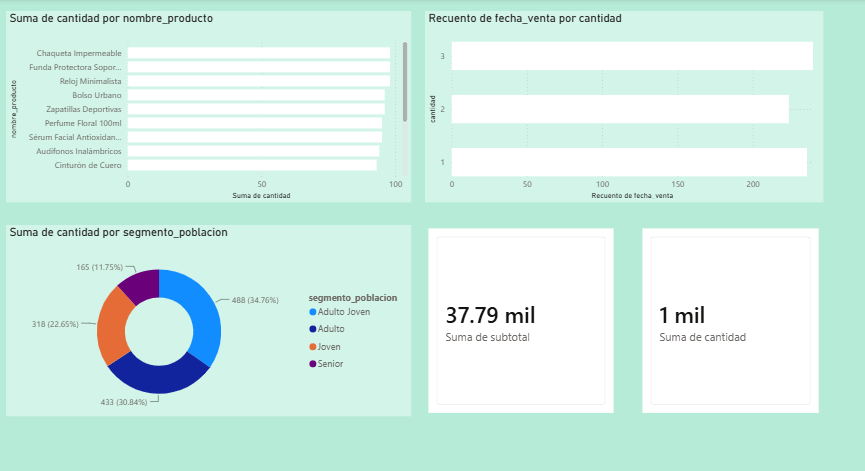

Layout of this report page (visuals, bound fields, positions):
{"tool":"powerbi","page":{"name":"Página 1","canvas":[1280,720],"ordinal":0},"visuals":[{"type":"clusteredBarChart","fields":{"Category":["data_1787153530967.nombre_producto"],"Y":["Sum(data_1787153530967.cantidad)"]},"box":[12.9,17.1,592.9,280],"z":0},{"type":"donutChart","fields":{"Category":["data_1787153530967.segmento_poblacion"],"Y":["Sum(data_1787153530967.cantidad)"]},"box":[12.9,331.4,593,280],"z":1000},{"type":"clusteredBarChart","fields":{"Y":["CountNonNull(data_1787153530967.fecha_venta)"],"Category":["data_1787153530967.cantidad"]},"box":[625.7,17.1,582.9,280],"z":2000},{"type":"cardVisual","fields":{"Data":["Sum(data_1787153530967.subtotal)"]},"box":[625.7,331.4,281.4,280],"z":3000},{"type":"cardVisual","fields":{"Data":["Sum(data_1787153530967.cantidad)"]},"box":[940,331.4,268.6,280],"z":4000}]}

Visuals, with their boxes on the page's 1280x720 design canvas (x1, y1, x2, y2). These are canvas units, not pixel positions in the 865x471 screenshot, which may show the page scaled, cropped or inside an application window:
clusteredBarChart - data_1787153530967.nombre_producto x Sum(data_1787153530967.cantidad): bbox(13, 17, 606, 297)
donutChart - data_1787153530967.segmento_poblacion x Sum(data_1787153530967.cantidad): bbox(13, 331, 606, 611)
clusteredBarChart - CountNonNull(data_1787153530967.fecha_venta) x data_1787153530967.cantidad: bbox(626, 17, 1209, 297)
cardVisual - Sum(data_1787153530967.subtotal): bbox(626, 331, 907, 611)
cardVisual - Sum(data_1787153530967.cantidad): bbox(940, 331, 1209, 611)
